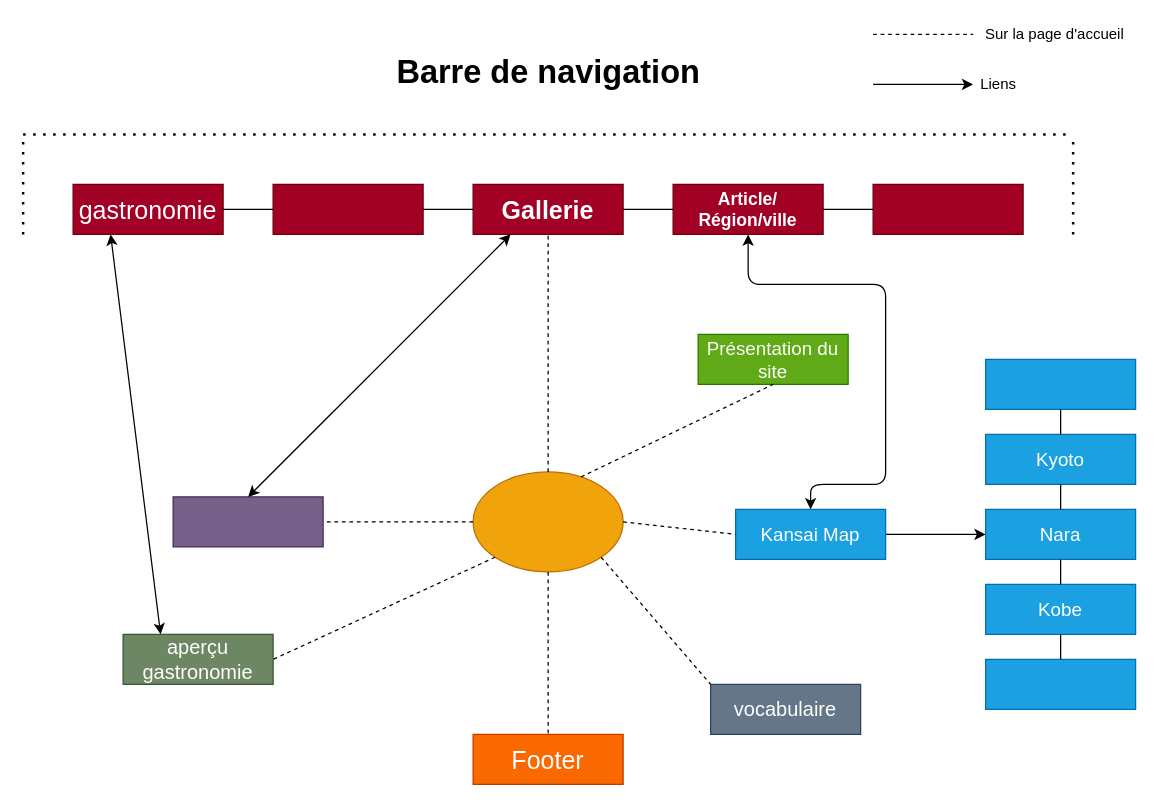
Image size: 1158x806. Some labels were removed from this diagram. Each missing label, with the box of its shape:
Accueil: (472, 471, 623, 572)
Contact: (272, 183, 423, 234)
Images qui défilent: (172, 496, 323, 547)
Inscription/ connexion: (872, 183, 1023, 234)
Osaka: (984, 358, 1136, 409)
Wakayama: (984, 658, 1136, 709)
